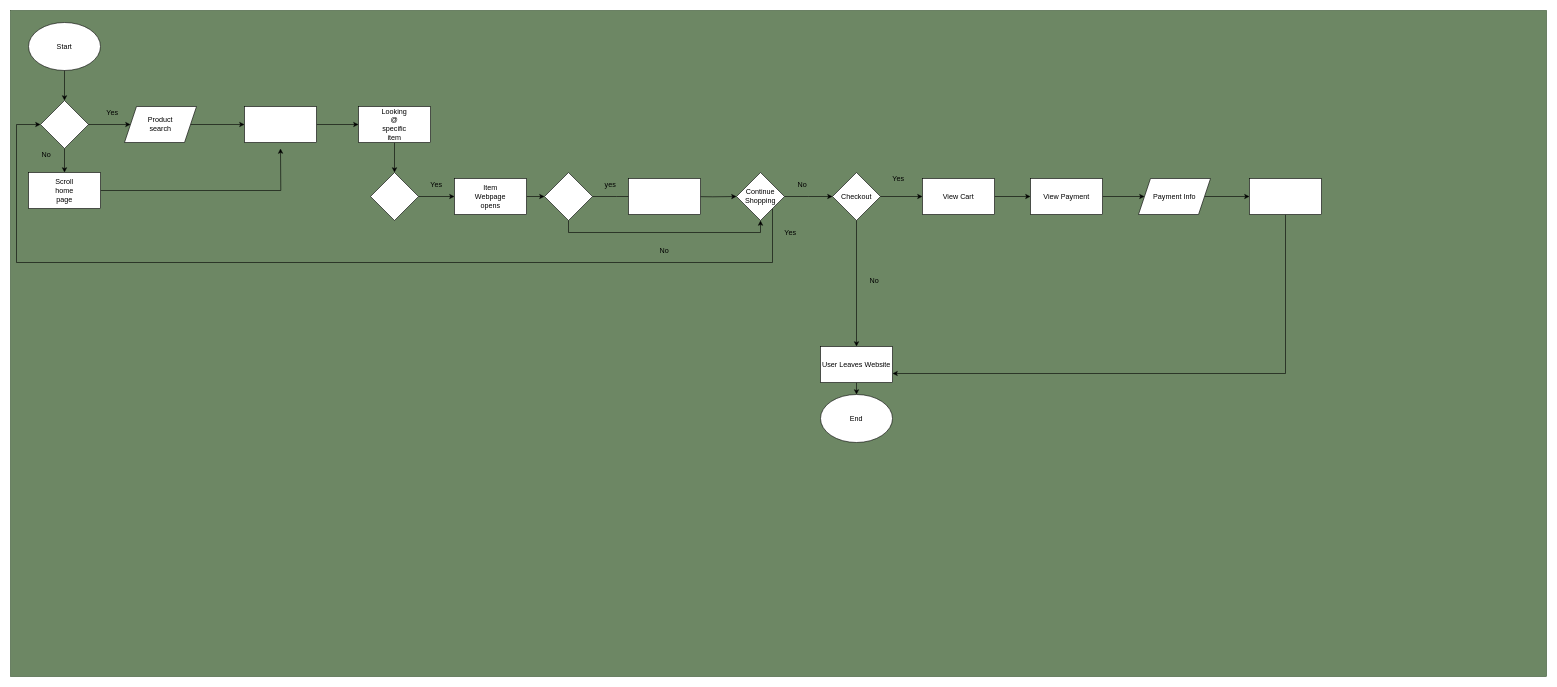
The diagram is 1557 pixels wide and 687 high, and some of its shapes have lost their labels. Each missing label, with the centre of its shape:
"Add to Cart" belongs at point (568, 196).
"Cart Confimration" belongs at point (664, 196).
"Looking at Items" belongs at point (280, 124).
"Order Confirmation + Email" belongs at point (1285, 196).
"Search for product" belongs at point (64, 124).
"View Item" belongs at point (394, 196).
